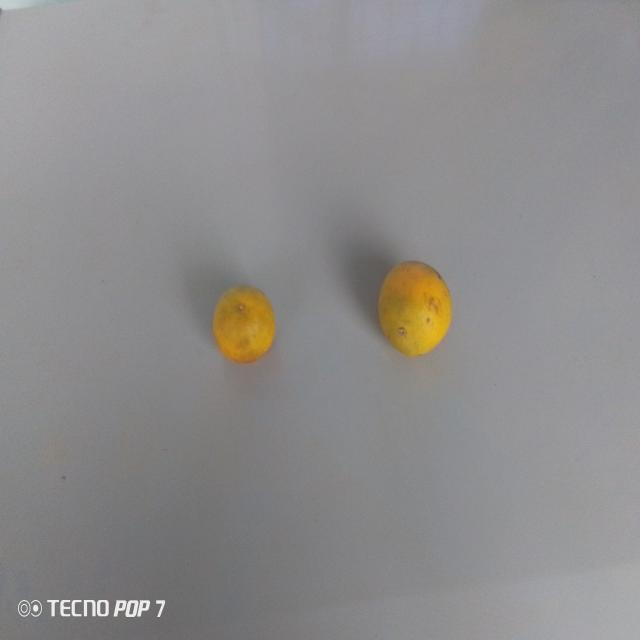Ripe orange: (368, 244, 457, 368), (214, 267, 287, 383)
